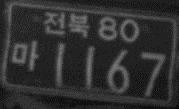0: (120, 18, 139, 42)
1: (55, 42, 68, 88), (84, 45, 96, 91)
6: (106, 48, 132, 95)
7: (138, 50, 167, 97)
8: (97, 16, 119, 41)
마: (10, 38, 40, 71)
전북_O: (42, 9, 90, 38)
